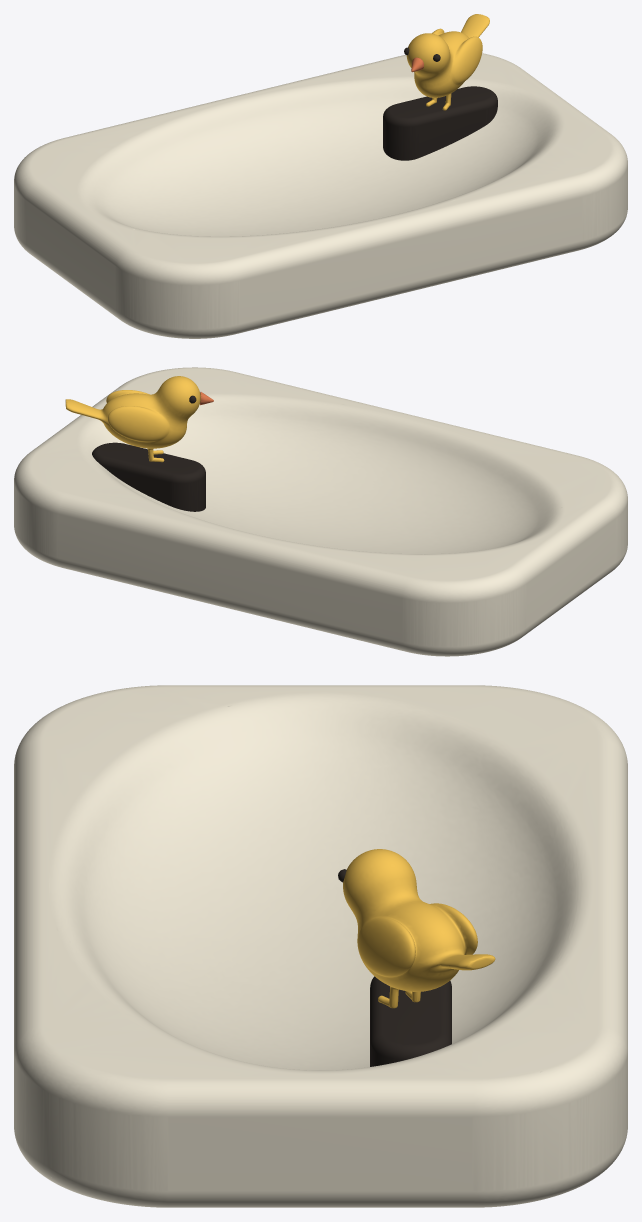
File: splash-screen.glb
3 views of the same model, one above another, from view 1: azimuth 30°, elevation 25°; view 2: azimuth 150°, elevation 25°; view 3: azimuth 270°, elevation 25° (orthographic). The views are drawn at different scales.
Parts seen in each view (by area): view 1: ss-dish, ss-island, ss-finch-body; view 2: ss-dish, ss-finch-body, ss-island; view 3: ss-dish, ss-finch-body, ss-island.
Part boxes in pixels (left/top/right/bottom): ss-dish: left=14, top=53, right=627, bottom=338; ss-island: left=383, top=86, right=497, bottom=160; ss-finch-body: left=406, top=14, right=489, bottom=110; ss-dish: left=14, top=367, right=627, bottom=656; ss-finch-body: left=65, top=376, right=200, bottom=462; ss-island: left=92, top=442, right=205, bottom=511; ss-dish: left=14, top=685, right=627, bottom=1207; ss-finch-body: left=343, top=849, right=495, bottom=1008; ss-island: left=370, top=976, right=451, bottom=1066.
Bounding box in the file's own units: 0.24 × 0.0702 × 0.15.
